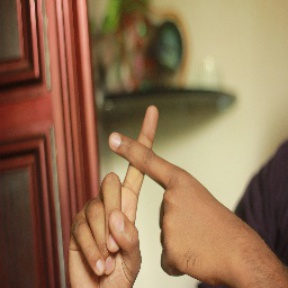X: (81, 98, 211, 222)
